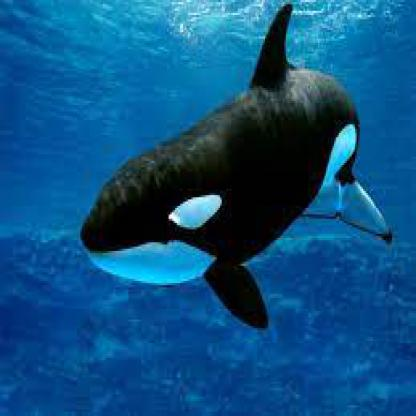killer_whale: (68, 4, 403, 337)
